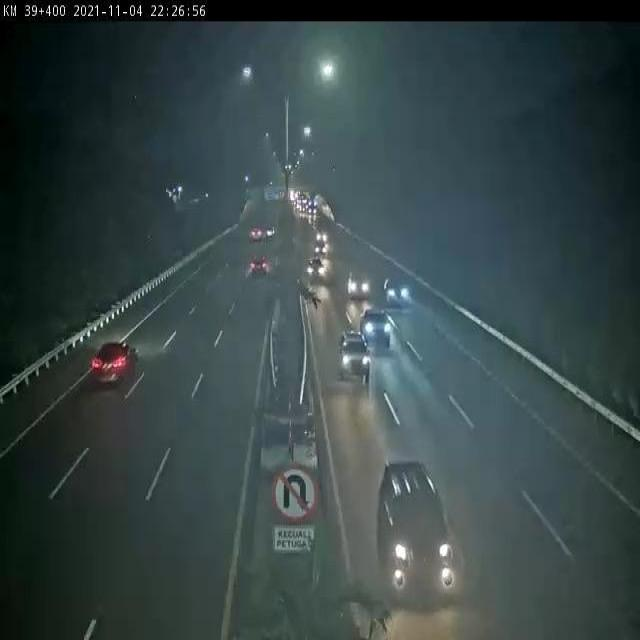car: (374, 452, 458, 596), (90, 339, 139, 388), (338, 328, 372, 380), (359, 305, 393, 348), (384, 276, 412, 308), (346, 268, 371, 300), (306, 256, 328, 283), (250, 255, 268, 276)
